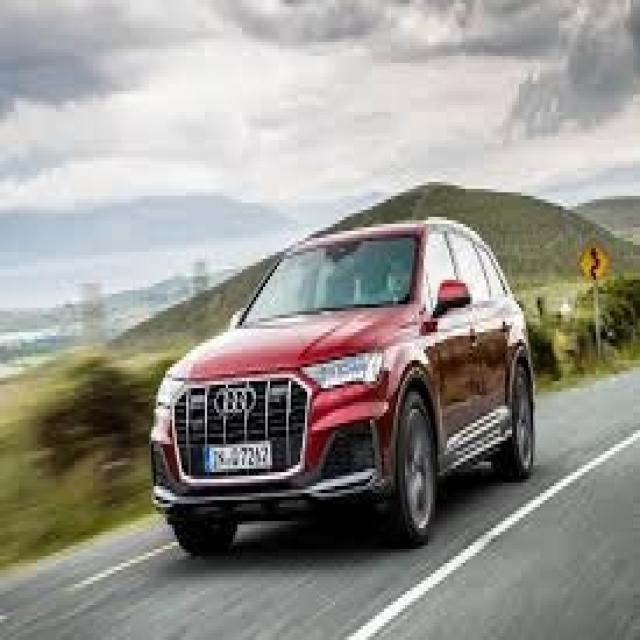red: (152, 220, 538, 556)
